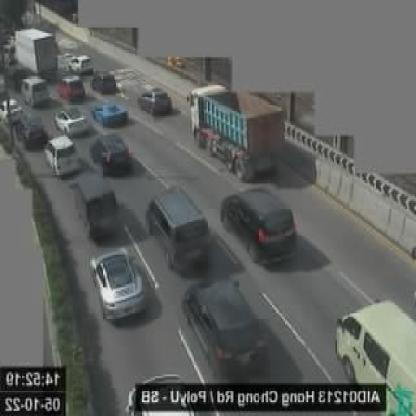Car: (335, 300, 415, 412), (186, 281, 269, 383), (221, 187, 300, 262), (148, 186, 213, 271), (92, 248, 151, 324), (76, 174, 124, 238), (93, 135, 136, 177), (45, 138, 82, 176), (139, 87, 174, 116), (21, 73, 51, 106), (95, 102, 129, 130), (56, 108, 92, 134), (57, 74, 86, 100), (18, 108, 43, 138), (94, 69, 118, 94), (1, 99, 22, 123), (69, 54, 92, 73)
Truck: (191, 83, 283, 184), (8, 27, 57, 74)
